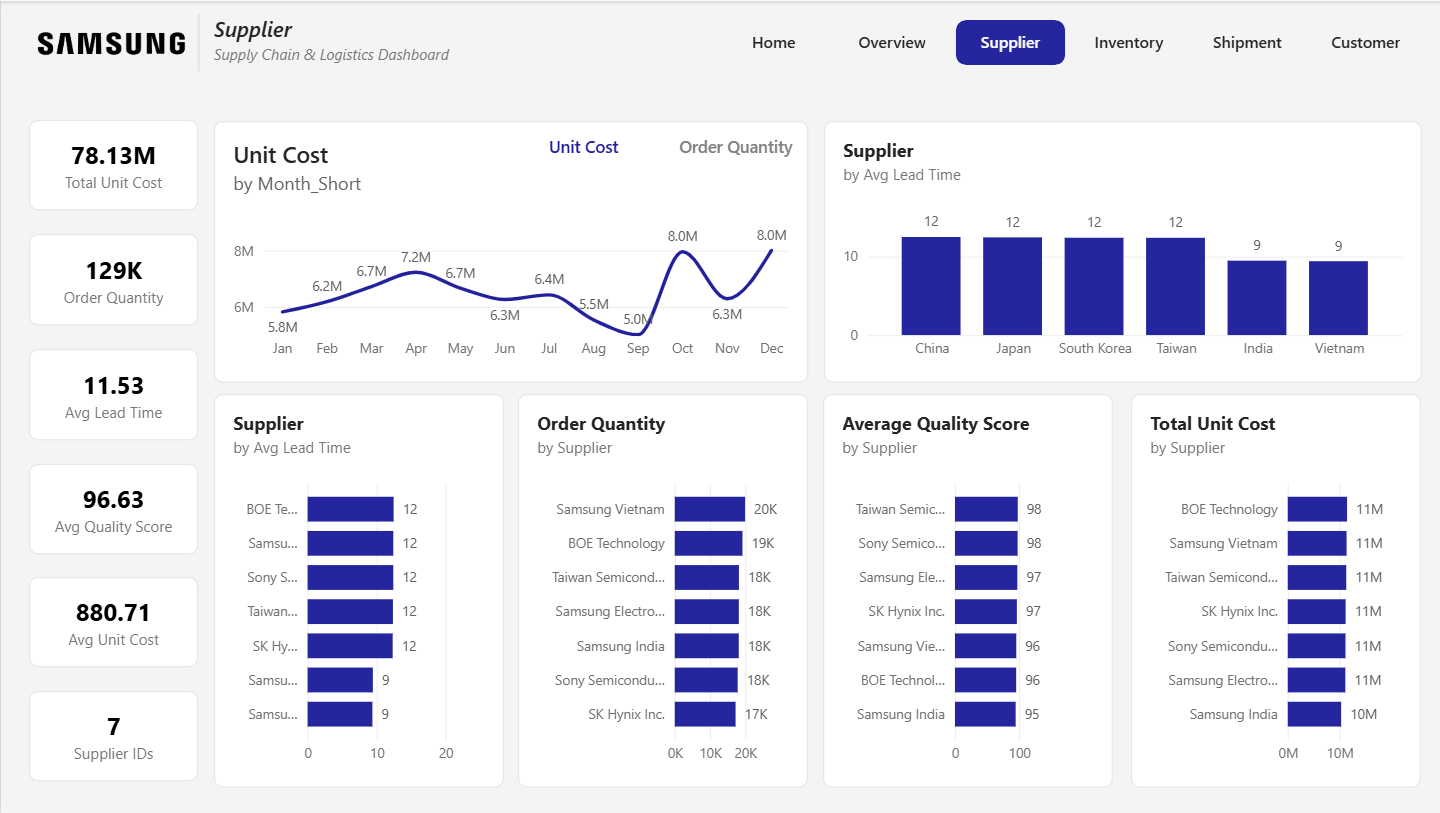

The dashboard page shown, as its layout file describes it:
{"tool":"powerbi","page":{"name":"Supplier","canvas":[1280,720],"ordinal":2},"visuals":[{"type":"shape","title":"Supplier","box":[188.5,11.1,236.9,51.4],"z":0},{"type":"shape","box":[162.3,11.1,26.2,51.4],"z":1000},{"type":"image","box":[13.1,20.2,162.3,34.3],"z":2000},{"type":"cardVisual","fields":{"Data":["MeasuresTable.Avg_Lead_Time"]},"box":[25.2,308.4,150.2,80.6],"z":3000},{"type":"cardVisual","fields":{"Data":["MeasuresTable.Avg_Quality_Score"]},"box":[25.2,410.2,150.2,79.6],"z":4000},{"type":"cardVisual","fields":{"Data":["MeasuresTable.Avg_Unit_Cost"]},"box":[25.2,511,150.2,79.6],"z":5000},{"type":"cardVisual","fields":{"Data":["CountNonNull(dim_supplier.supplier_id)"]},"box":[25.2,611.8,150.2,79.6],"z":6000},{"type":"cardVisual","fields":{"Data":["MeasuresTable.Total_Unit_Cost"]},"box":[25.2,105.8,150.2,79.6],"z":7000},{"type":"cardVisual","fields":{"Data":["MeasuresTable.Order_QTY"]},"box":[25.2,206.6,150.2,80.6],"z":8000},{"type":"clusteredBarChart","title":"Supplier","fields":{"Y":["MeasuresTable.Avg_Lead_Time"],"Category":["dim_supplier.supplier_name"]},"box":[188.5,348.7,257,348.7],"z":9000},{"type":"clusteredBarChart","title":"Order Quantity","fields":{"Category":["dim_supplier.supplier_name"],"Y":["MeasuresTable.Order_QTY"]},"box":[458.6,348.7,257,348.7],"z":10000},{"type":"clusteredBarChart","title":"Average Quality Score","fields":{"Category":["dim_supplier.supplier_name"],"Y":["MeasuresTable.Avg_Quality_Score"]},"box":[728.7,348.7,257,348.7],"z":11000},{"type":"clusteredColumnChart","title":"Supplier","fields":{"Category":["dim_supplier.country"],"Y":["MeasuresTable.Avg_Lead_Time"]},"box":[729.7,106.8,530.1,231.8],"z":12000},{"type":"clusteredBarChart","title":"Total Unit Cost","fields":{"Category":["dim_supplier.supplier_name"],"Y":["MeasuresTable.Total_Unit_Cost"]},"box":[1001.8,348.7,257,348.7],"z":13000},{"type":"group","id":"g1","title":"Group 1","box":[188.5,106.8,527.1,231.8],"z":14000},{"type":"pageNavigator","box":[637,17.1,622.9,40.3],"z":15000},{"type":"lineChart","fields":{"Y":["MeasuresTable.Total_Unit_Cost"],"Category":["dim_date.Month_Short"]},"box":[188.5,106.8,527.1,231.8],"z":15000,"group":"g1"},{"type":"advancedSlicerVisual","fields":{"Values":["Cost_Qty_Supplier.Cost_Qty_Supplier"]},"box":[452.6,106.8,263.1,45.4],"z":16001,"group":"g1"}]}

Visuals, with their boxes in screenshot pixels (x1, y1, x2, y2), scaled from the page's 1280x720 canvas onto the 1440x813 screenshot:
"Supplier" shape: 212:13:479:71
shape: 183:13:212:71
image: 15:23:197:62
cardVisual - MeasuresTable.Avg_Lead_Time: 28:348:197:439
cardVisual - MeasuresTable.Avg_Quality_Score: 28:463:197:553
cardVisual - MeasuresTable.Avg_Unit_Cost: 28:577:197:667
cardVisual - CountNonNull(dim_supplier.supplier_id): 28:691:197:781
cardVisual - MeasuresTable.Total_Unit_Cost: 28:119:197:209
cardVisual - MeasuresTable.Order_QTY: 28:233:197:324
"Supplier" clusteredBarChart: 212:394:501:787
"Order Quantity" clusteredBarChart: 516:394:805:787
"Average Quality Score" clusteredBarChart: 820:394:1109:787
"Supplier" clusteredColumnChart: 821:121:1417:382
"Total Unit Cost" clusteredBarChart: 1127:394:1416:787
"Group 1" group: 212:121:805:382
pageNavigator: 717:19:1417:65
lineChart - MeasuresTable.Total_Unit_Cost x dim_date.Month_Short: 212:121:805:382
advancedSlicerVisual - Cost_Qty_Supplier.Cost_Qty_Supplier: 509:121:805:172
